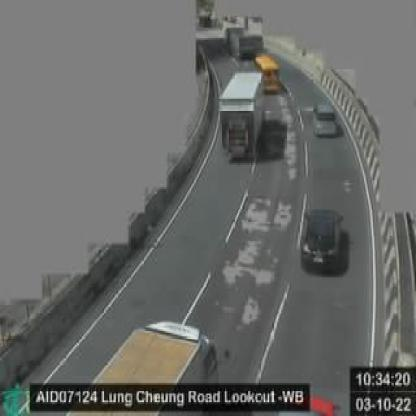Bus: (253, 54, 281, 94)
Car: (299, 206, 343, 269), (313, 102, 337, 135)
Truck: (217, 69, 261, 158)
